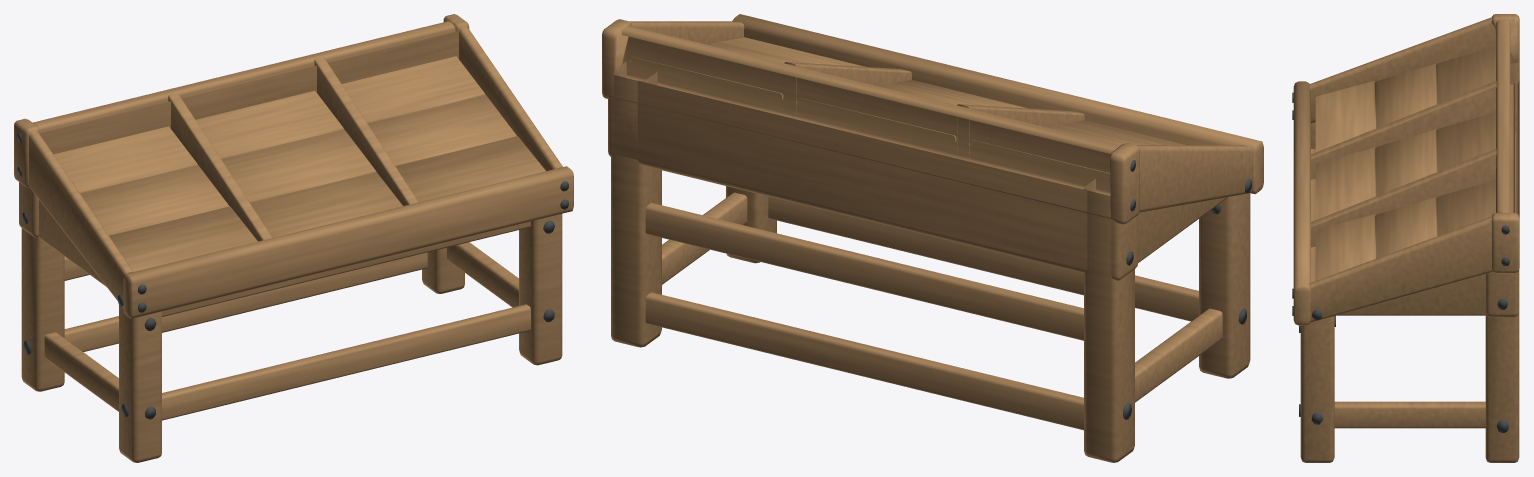
The model's file is market_display_table.fbx.
3 renders of one model, left to right at view 1: azimuth 30°, elevation 25°; view 2: azimuth 150°, elevation 25°; view 3: azimuth 270°, elevation 25°, orthographic. The views are drawn at different scales.
Visible parts, largest first — view 1: market_display_table; view 2: market_display_table; view 3: market_display_table.
Boxes of the visible parts, bbox=[...] form: market_display_table: bbox=[14, 14, 573, 462]; market_display_table: bbox=[602, 14, 1263, 462]; market_display_table: bbox=[1292, 14, 1519, 462].
Size of the model in its own units: 1.5 by 0.85 by 0.7.
Materials: 1 (1 with a texture image).
